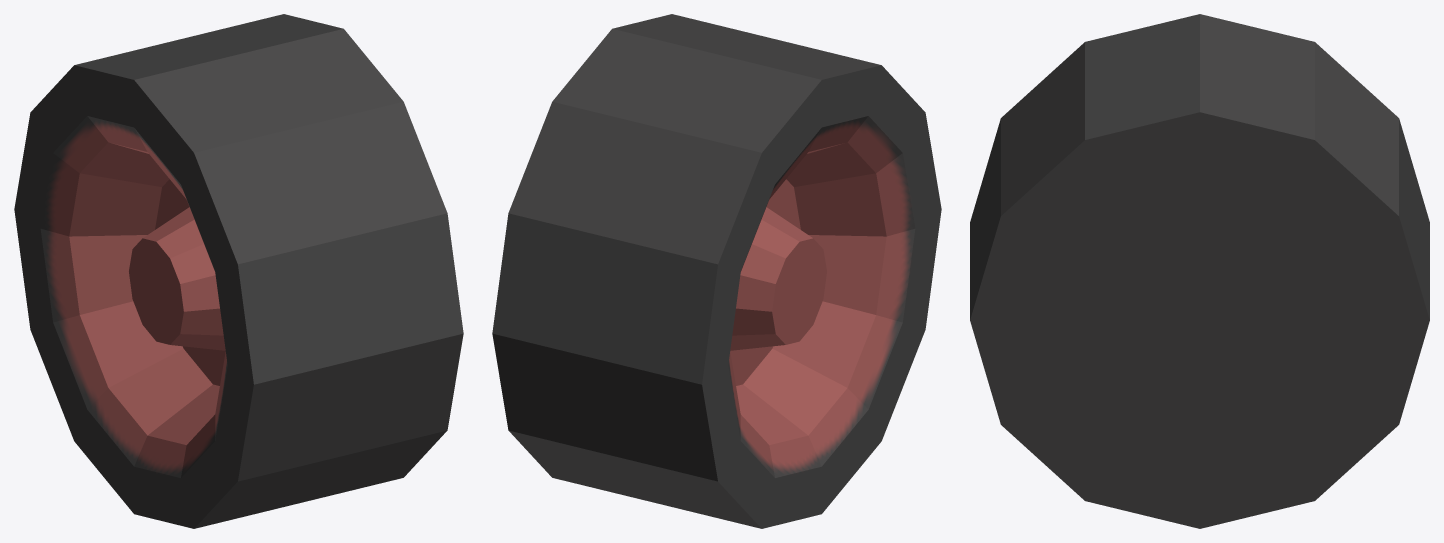
Rendered from Car_Demo_Wheel.fbx.
3 views of the same model, side by side, from view 1: azimuth 30°, elevation 25°; view 2: azimuth 150°, elevation 25°; view 3: azimuth 270°, elevation 25° (orthographic). The views are drawn at different scales.
Visible parts, largest first — view 1: Car_Demo_Wheel; view 2: Car_Demo_Wheel; view 3: Car_Demo_Wheel.
Boxes of the visible parts, bbox=[...] form: Car_Demo_Wheel: bbox=[14, 14, 463, 528]; Car_Demo_Wheel: bbox=[492, 14, 941, 528]; Car_Demo_Wheel: bbox=[970, 14, 1429, 528].
Bounding box in the file's own units: 4.67 × 9.25 × 9.25.
